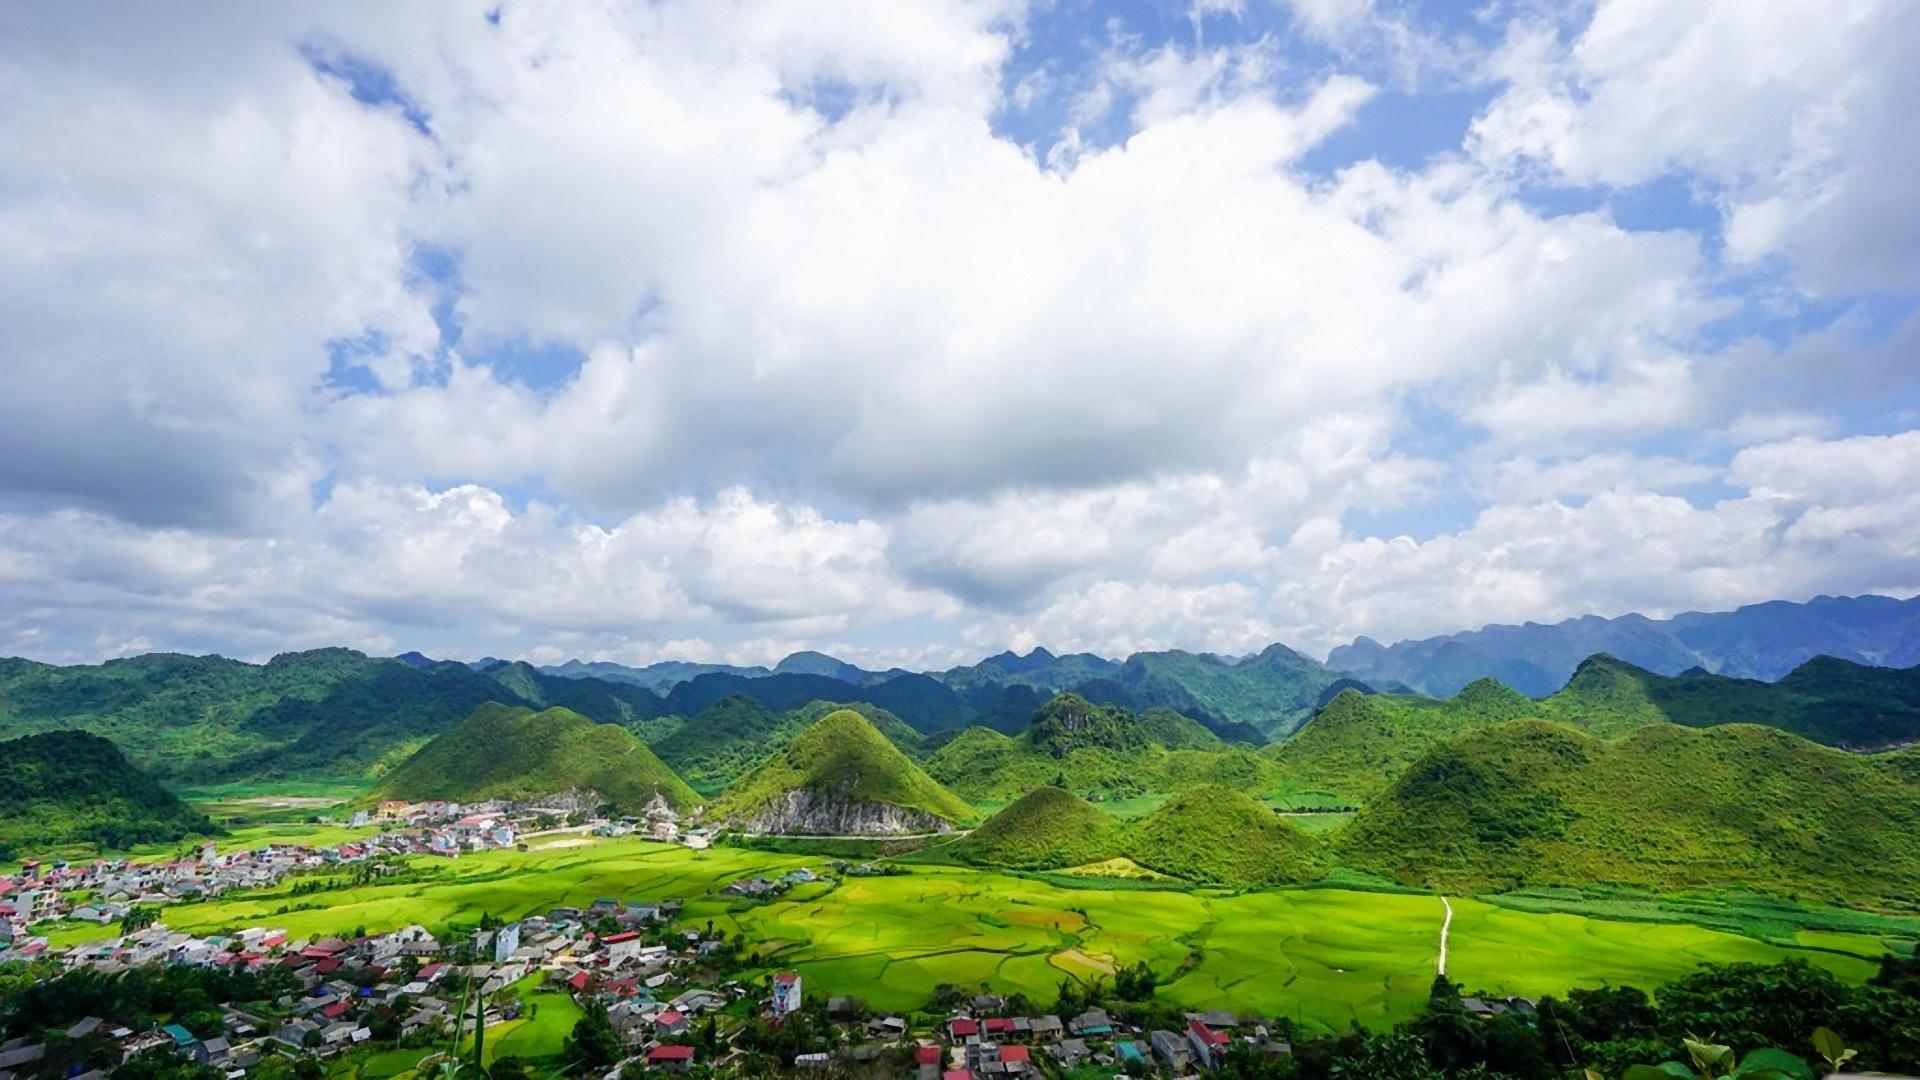trashbox-cardboard: (1565, 1013, 1920, 1080)
